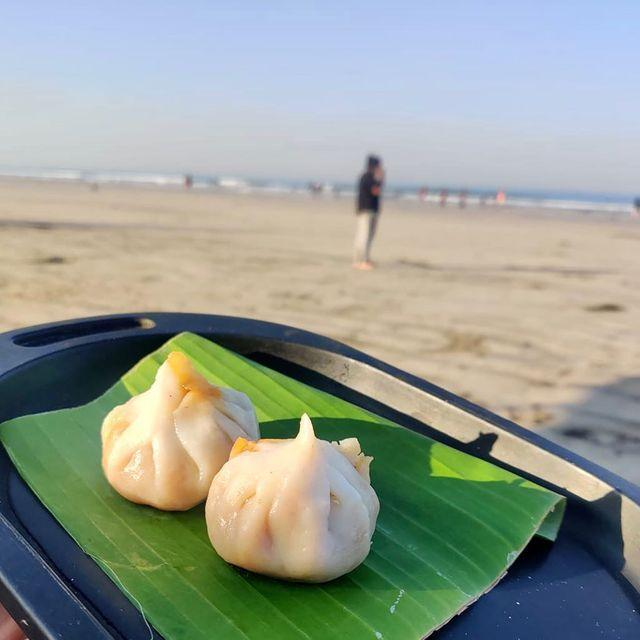modak: (204, 410, 374, 601), (95, 346, 264, 524)
